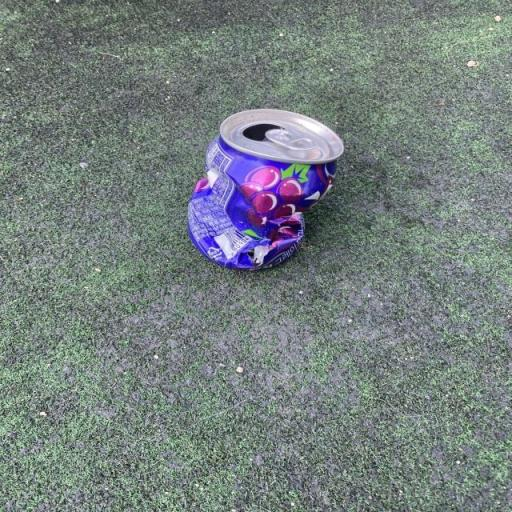metal: (154, 102, 368, 286)
